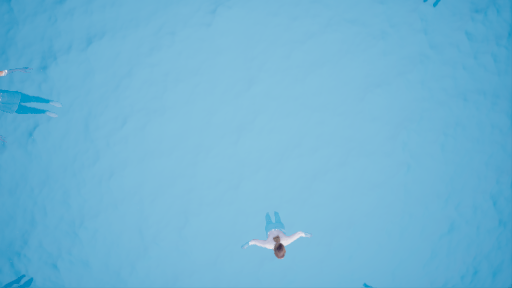person: (242, 209, 319, 261)
